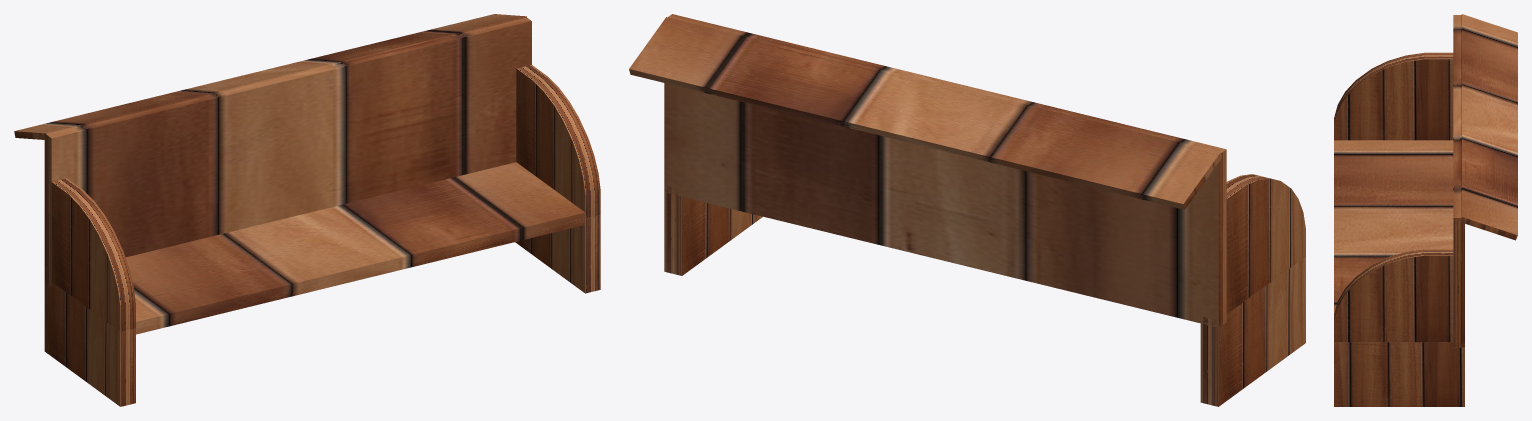
File: banca.obj
3 renders of one model, left to right at view 1: azimuth 30°, elevation 25°; view 2: azimuth 150°, elevation 25°; view 3: azimuth 270°, elevation 25°, orthographic. The views are drawn at different scales.
Visible parts, largest first — view 1: pCube12; view 2: pCube12; view 3: pCube12.
Boxes of the visible parts, left/top/right/bottom form: pCube12: left=14, top=14, right=600, bottom=406; pCube12: left=629, top=14, right=1305, bottom=406; pCube12: left=1334, top=14, right=1517, bottom=406.
Bounding box in the file's own units: 4.03 × 1.76 × 1.54.
